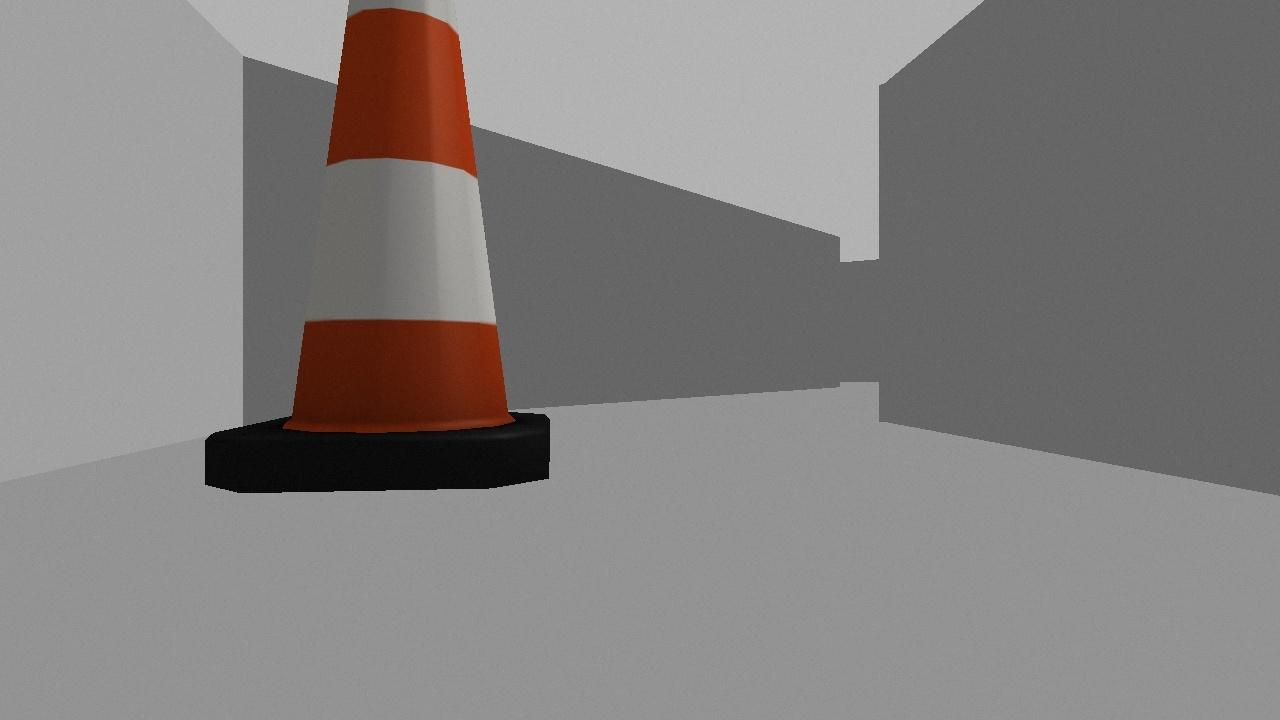cone_barrel: (202, 0, 549, 491)
